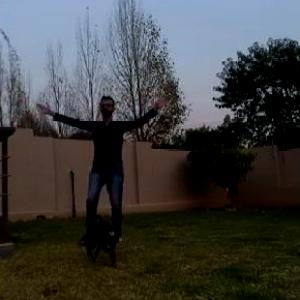takeoff: (1, 78, 159, 262)
